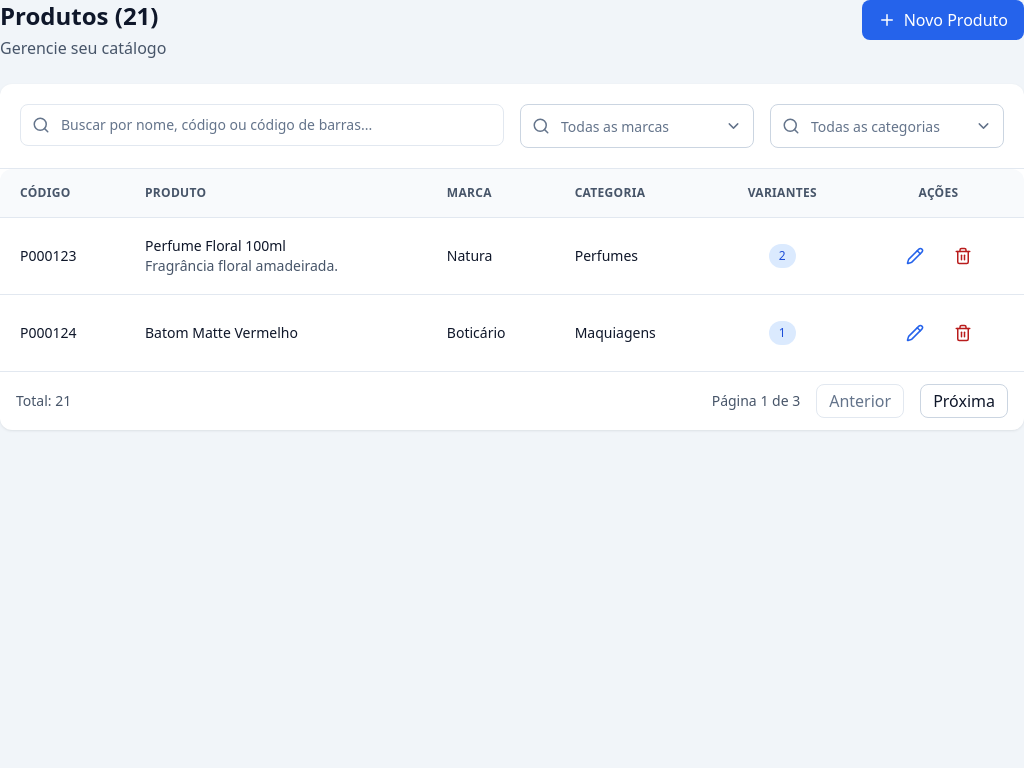
Test: ProductListPage › excluir o único item da última página volta uma página
The width and height of the screenshot is (1024, 768).
Expected: the heading "Produtos (21)" is shown, [0,0,166,32]
Step 1. Click the button "Próxima" → (964, 401), box [920,384,1008,418]
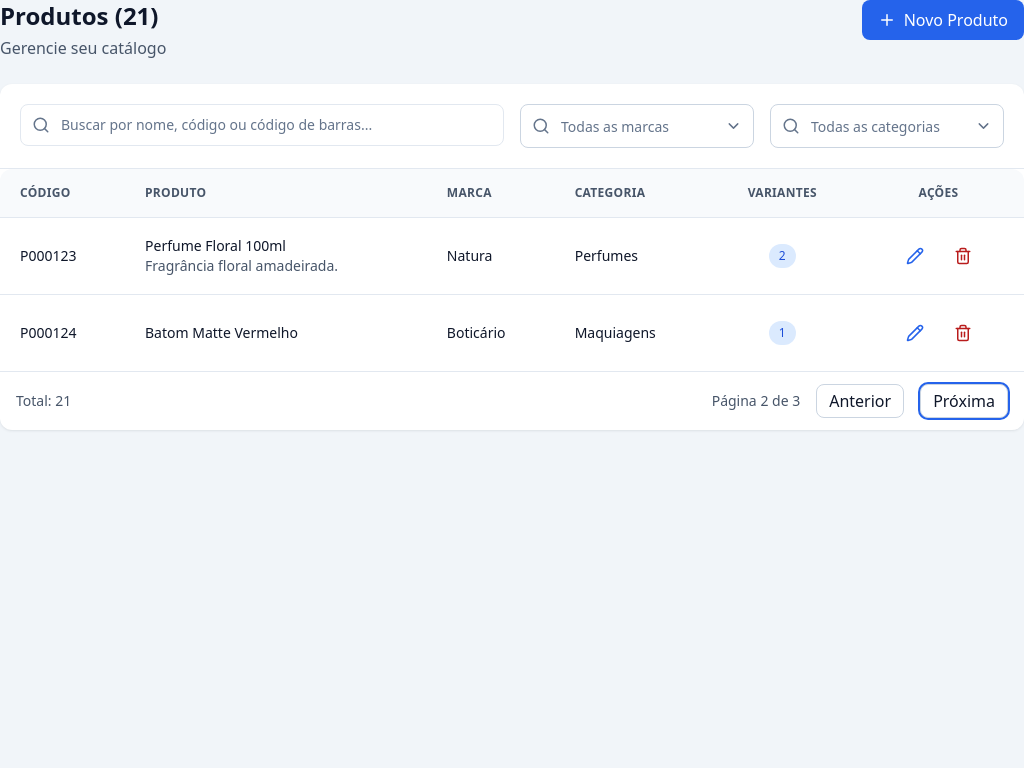
Step 2. Click the button "Próxima" → (964, 401), box [920,384,1008,418]
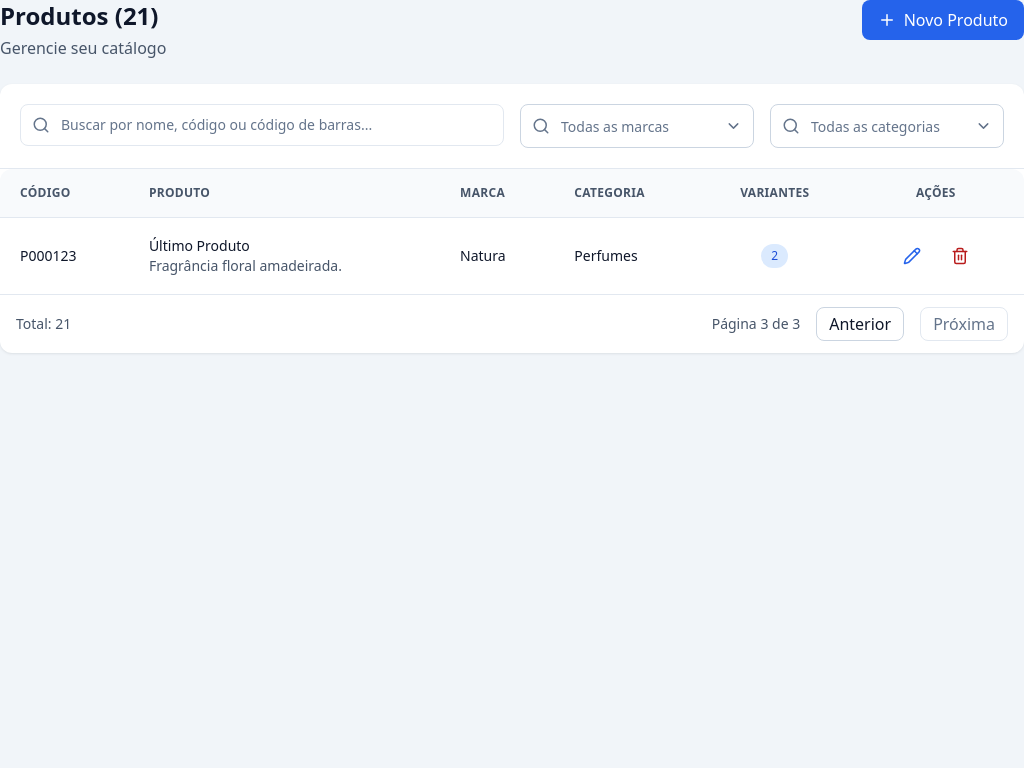
Expected: the link "Último Produto" is shown, [149,236,250,255]
Step 3. Click the button named "Excluir Último Produto" → (960, 256), box [938,234,982,278]
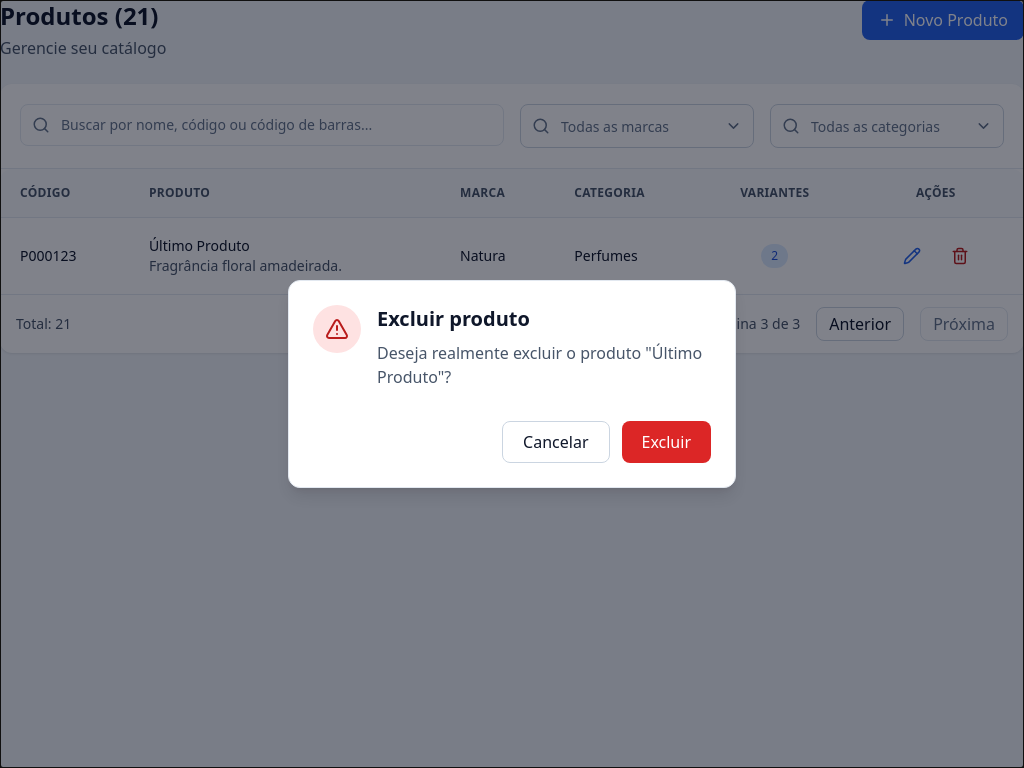
Step 4. Click the button "Excluir" → (666, 442), box [622,421,711,463]
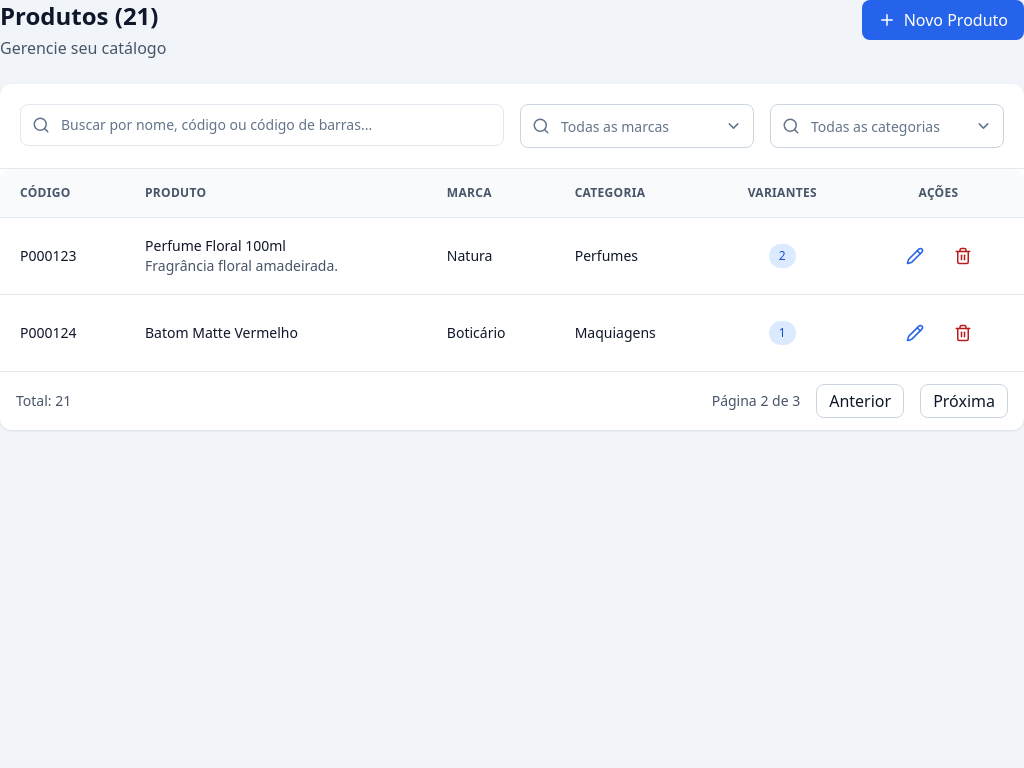
Expected: the text "Página 2 de 3" is shown, [712,391,800,411]
